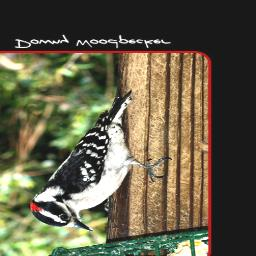Woodpecker: (29, 92, 175, 232)
